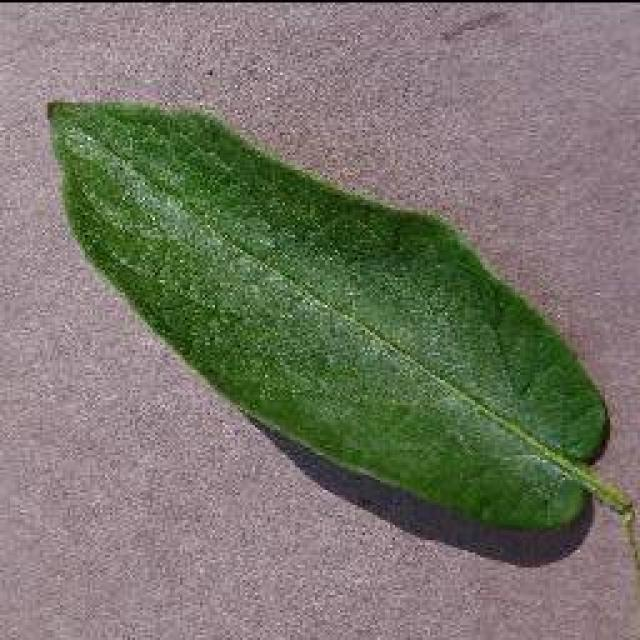Potato___healthy: (47, 100, 638, 569)
